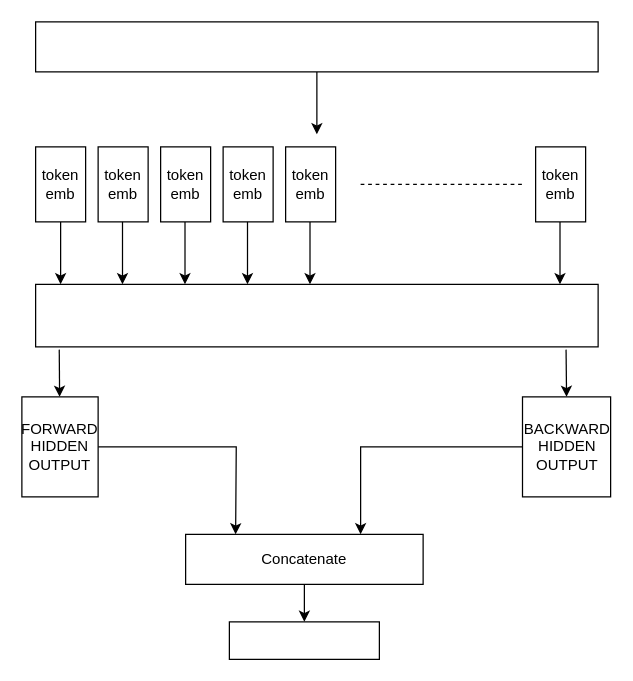
Some shapes in this 633 by 681 pixel diagram are drawn without their labels. Each missing label, with the centre of its shape:
"BIDIRECTIONAL LSTM" belongs at point 316,315.
"OUTPUT" belongs at point 303,640.
"TOKENIZED TEXT" belongs at point 316,46.
